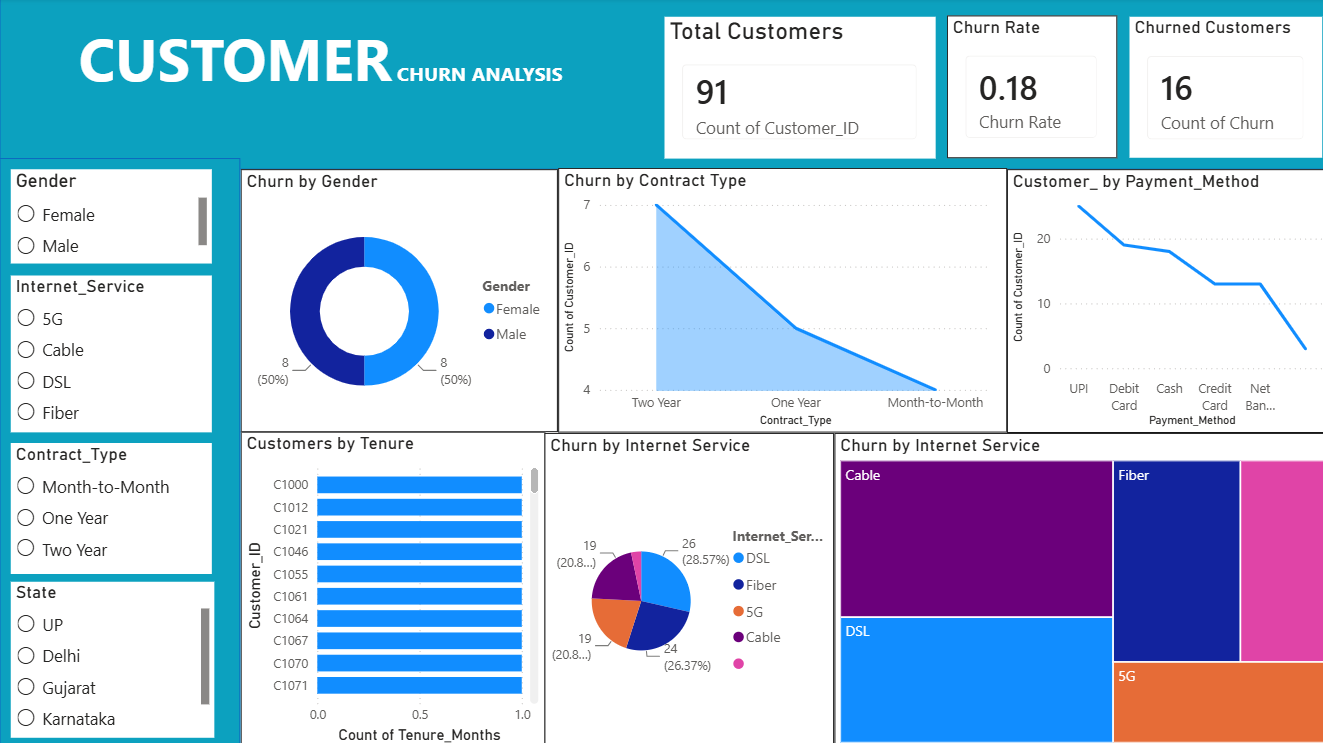

The dashboard page shown, as its layout file describes it:
{"tool":"powerbi","page":{"name":"Page 1","canvas":[1280,720],"ordinal":0},"visuals":[{"type":"shape","box":[2.4,0,1277.9,164.6],"z":0},{"type":"donutChart","title":"Churn by Gender","fields":{"Category":["Cleaned_Churn_Data.Gender"],"Y":["CountNonNull(Cleaned_Churn_Data.Churn)"]},"box":[233.4,164,303.9,252.3],"z":1000},{"type":"cardVisual","title":"Churned Customers","fields":{"Data":["CountNonNull(Cleaned_Churn_Data.Churn)"]},"box":[1085.8,18,184.6,135.4],"z":2000},{"type":"cardVisual","title":"Churn Rate ","fields":{"Data":["Cleaned_Churn_Data.Churn Rate"]},"box":[910.9,16.8,163,136.6],"z":3000},{"type":"treemap","title":"Churn by Internet Service","fields":{"Group":["Cleaned_Churn_Data.Internet_Service"],"Values":["CountNonNull(Cleaned_Churn_Data.Customer_ID)"]},"box":[803,416.8,477,303.2],"z":4000},{"type":"areaChart","title":"Churn by Contract Type","fields":{"Category":["Cleaned_Churn_Data.Contract_Type"],"Y":["CountNonNull(Cleaned_Churn_Data.Customer_ID)"]},"box":[538.4,163.4,430.5,253.9],"z":5000},{"type":"barChart","title":"Customers by Tenure","fields":{"Category":["Cleaned_Churn_Data.Customer_ID"],"Y":["CountNonNull(Cleaned_Churn_Data.Tenure_Months)"]},"box":[233.5,415.9,291.8,305],"z":6000},{"type":"cardVisual","title":"Total Customers","fields":{"Data":["Count(Cleaned_Churn_Data.Customer_ID)"]},"box":[640.3,17.9,259.7,135.6],"z":7000},{"type":"textbox","box":[2.4,14.4,616,127],"z":8000},{"type":"shape","box":[2.4,154,230.9,564.9],"z":9000},{"type":"listSlicer","fields":{"Values":["Cleaned_Churn_Data.Gender"]},"box":[13,164.6,193,90],"z":10000},{"type":"listSlicer","fields":{"Values":["Cleaned_Churn_Data.Contract_Type"]},"box":[13,426.4,193,125.5],"z":11000},{"type":"listSlicer","fields":{"Values":["Cleaned_Churn_Data.State"]},"box":[13,560.2,195.4,149.2],"z":12000},{"type":"pieChart","title":"Churn by Internet Service","fields":{"Category":["Cleaned_Churn_Data.Internet_Service"],"Y":["CountNonNull(Cleaned_Churn_Data.Customer_ID)"]},"box":[525.3,417.3,277.2,302.1],"z":13000},{"type":"lineChart","title":" Customer_ by Payment_Method","fields":{"Category":["Cleaned_Churn_Data.Payment_Method"],"Y":["CountNonNull(Cleaned_Churn_Data.Customer_ID)"]},"box":[968,164,312,253],"z":14000},{"type":"listSlicer","fields":{"Values":["Cleaned_Churn_Data.Internet_Service"]},"box":[13,266.5,193,150.4],"z":15000}]}

Visuals, with their boxes in screenshot pixels (x1, y1, x2, y2), scaled from the page's 1280x720 canvas onto the 1323x743 screenshot:
shape: region(2, 0, 1322, 170)
"Churn by Gender" donutChart: region(241, 169, 555, 430)
"Churned Customers" cardVisual: region(1122, 19, 1313, 158)
"Churn Rate " cardVisual: region(942, 17, 1110, 158)
"Churn by Internet Service" treemap: region(830, 430, 1322, 742)
"Churn by Contract Type" areaChart: region(556, 169, 1001, 431)
"Customers by Tenure" barChart: region(241, 429, 543, 742)
"Total Customers" cardVisual: region(662, 18, 930, 158)
textbox: region(2, 15, 639, 146)
shape: region(2, 159, 241, 742)
listSlicer - Cleaned_Churn_Data.Gender: region(13, 170, 213, 263)
listSlicer - Cleaned_Churn_Data.Contract_Type: region(13, 440, 213, 570)
listSlicer - Cleaned_Churn_Data.State: region(13, 578, 215, 732)
"Churn by Internet Service" pieChart: region(543, 431, 829, 742)
" Customer_ by Payment_Method" lineChart: region(1001, 169, 1322, 430)
listSlicer - Cleaned_Churn_Data.Internet_Service: region(13, 275, 213, 430)
